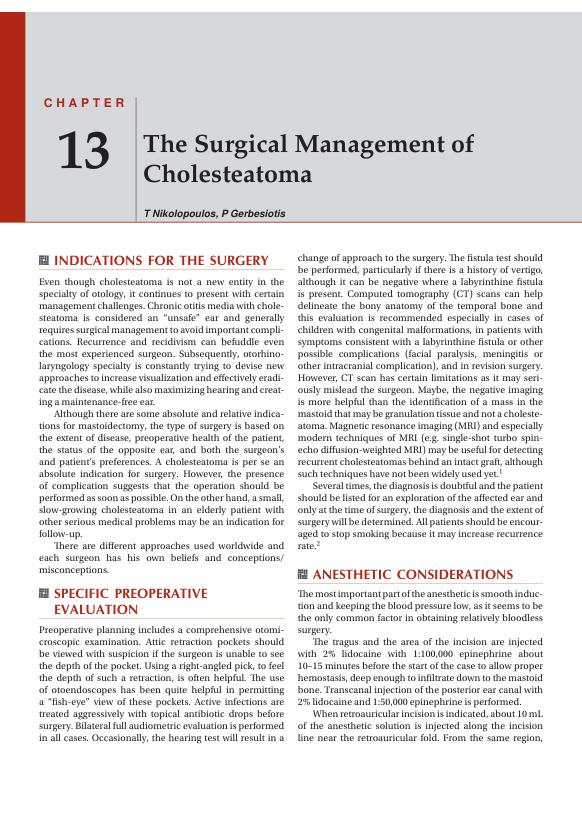chapter-heading: (139, 129, 479, 186)
section-heading: (52, 586, 208, 616), (53, 254, 270, 267), (311, 568, 514, 581)
text: (295, 251, 545, 552), (37, 276, 285, 576), (296, 587, 544, 745), (38, 624, 285, 745)
